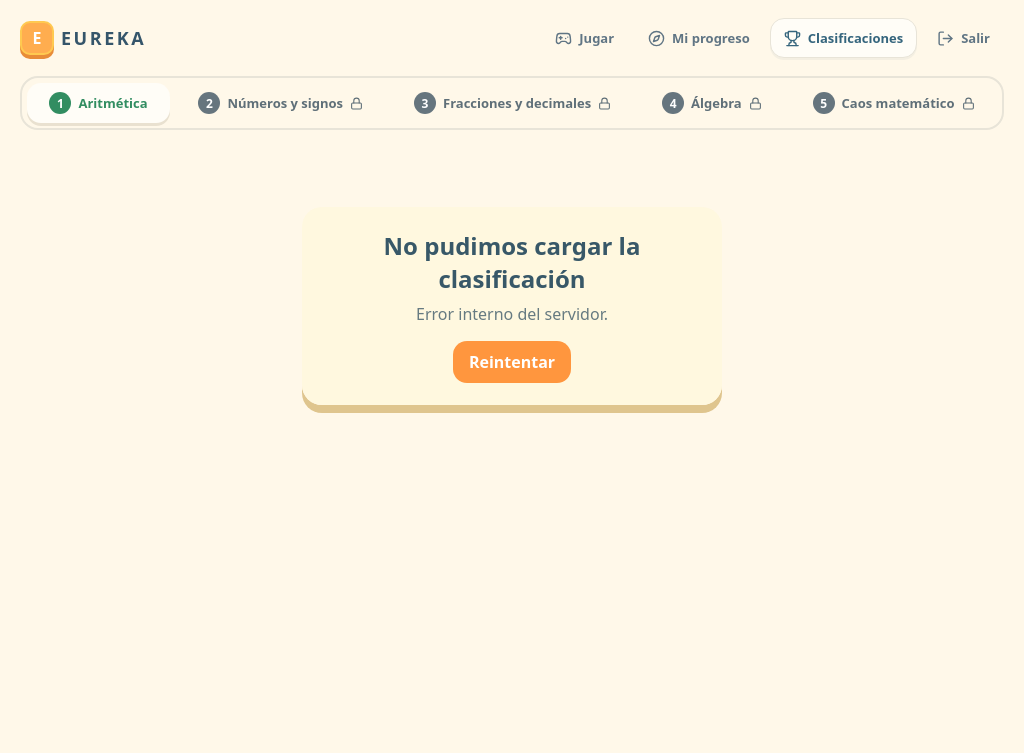
Test: clasificaciones › si falla la clasificación de un mundo, mantiene las pestañas y permite reintentar
Expected: the message shows "Error interno del servidor.", [416, 303, 608, 325]
Expected: the navigation bar named "Elige un mundo" is shown, [20, 76, 1004, 130]
Click the button "Reintentar" at (512, 362), box [453, 341, 571, 383]
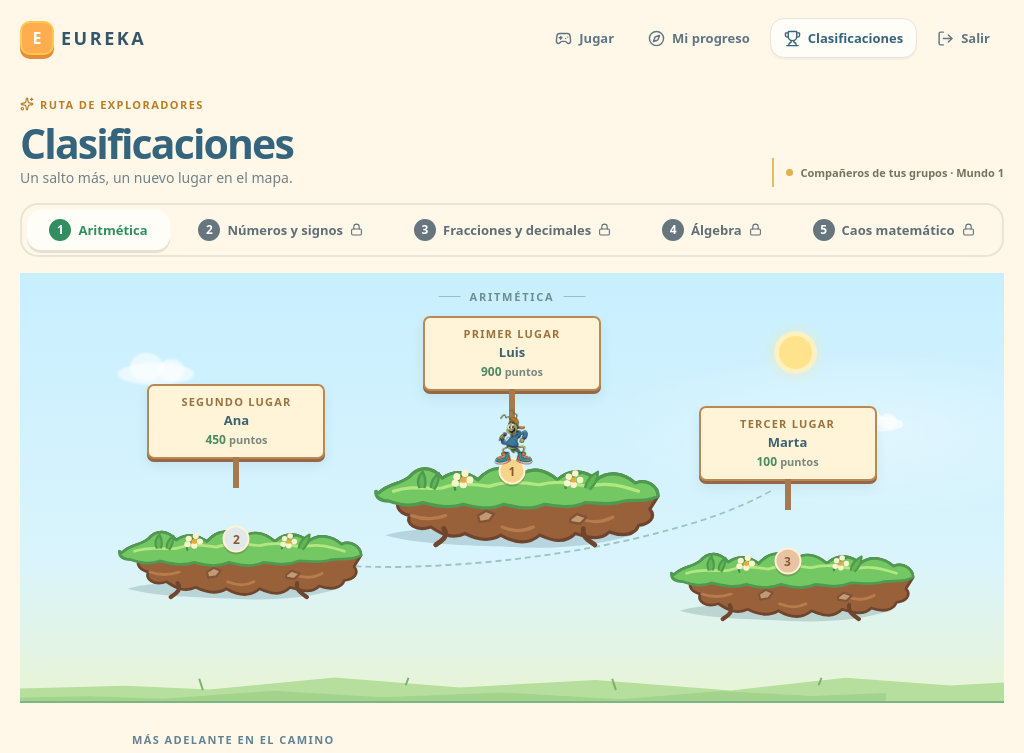
Result: the heading "Clasificaciones" is shown at [20, 123, 293, 164]
